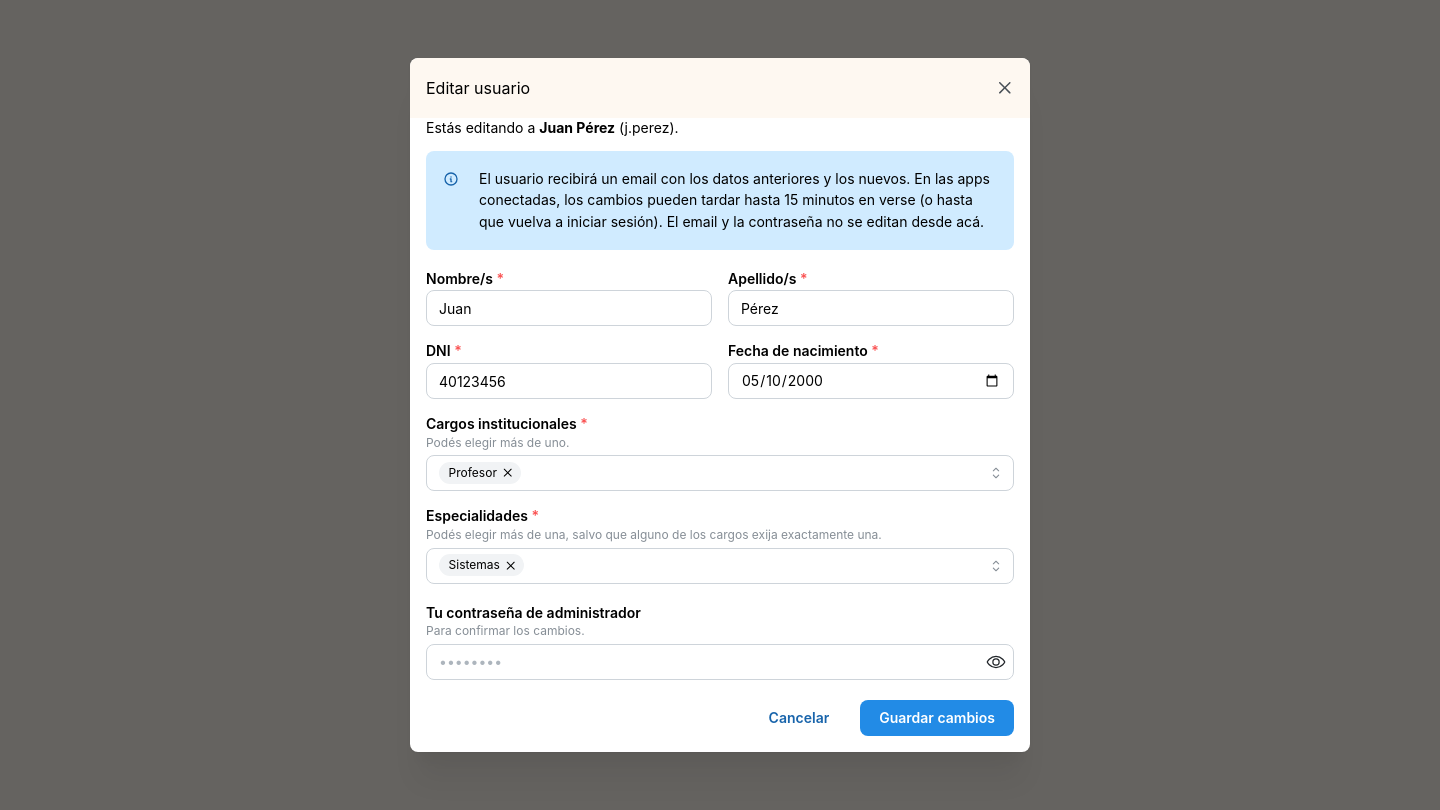
Test: EditStudentModal › debería pedir la contraseña del admin antes de enviar
Replace the text in the field labelled "Nombre/s *" with "Juan Carlos": point(569, 308) 426,290 -> 712,326
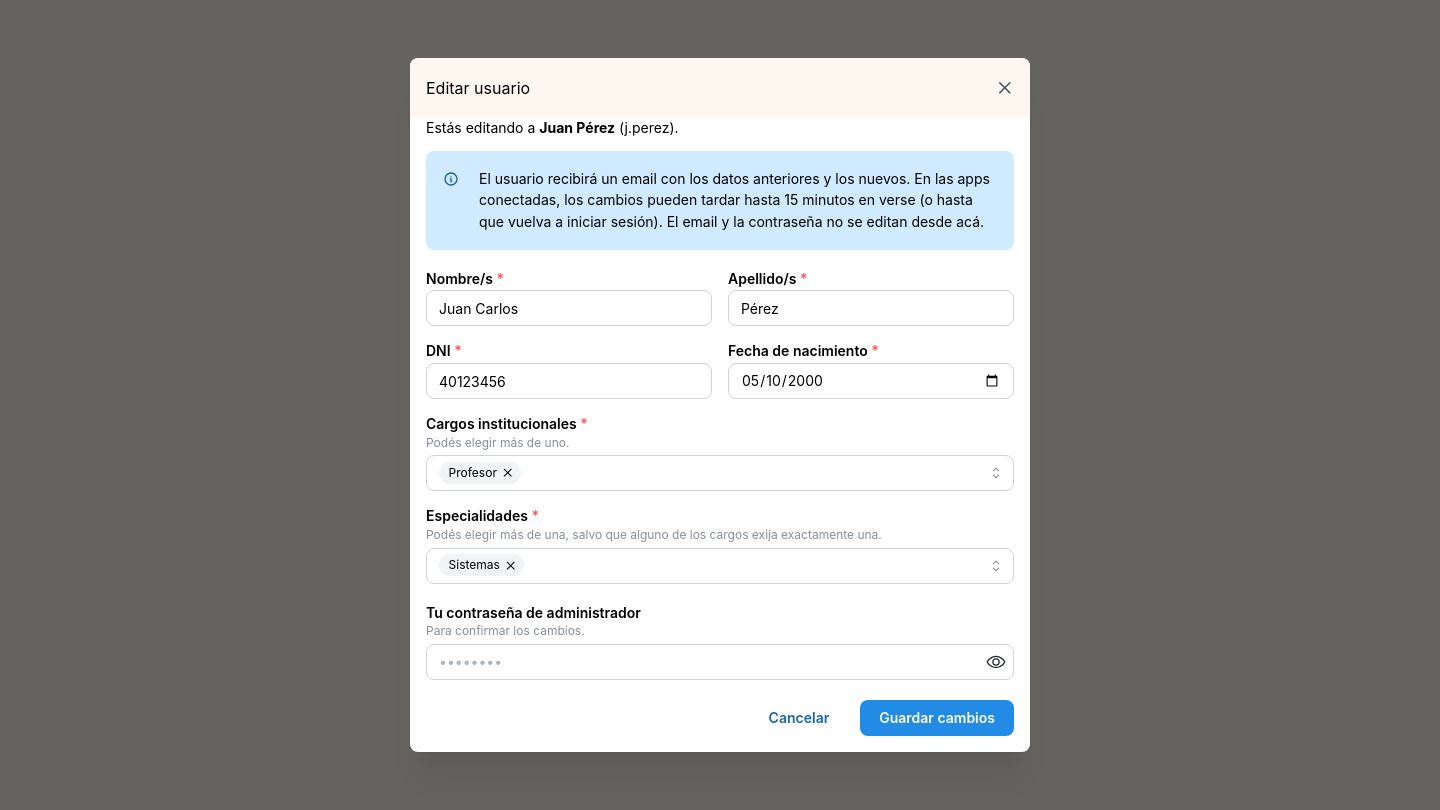
Click the button "Guardar cambios": point(937, 718) 860,700 -> 1014,736
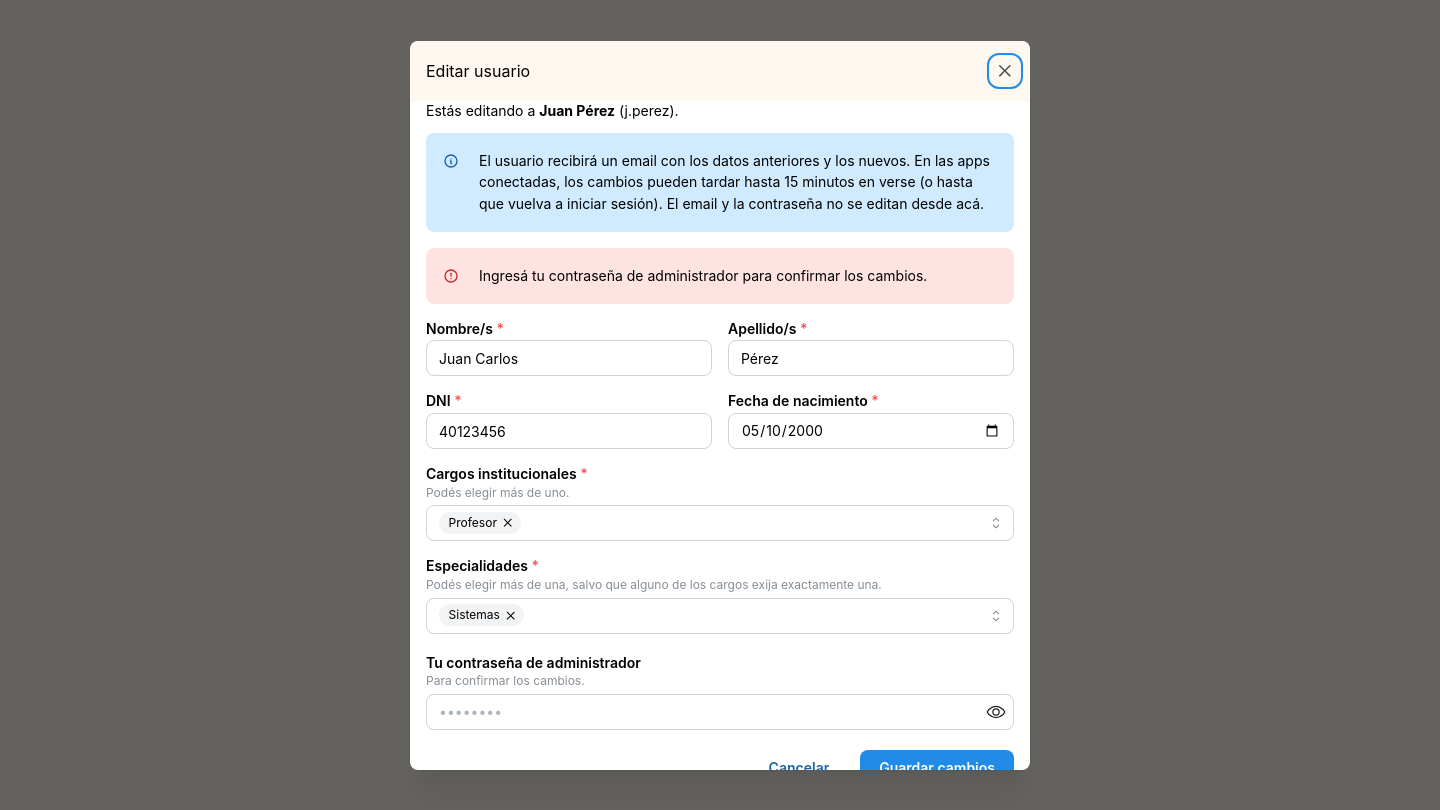
Result: the text "Ingresá tu contraseña de administrador" is shown at 479,267 -> 927,284
